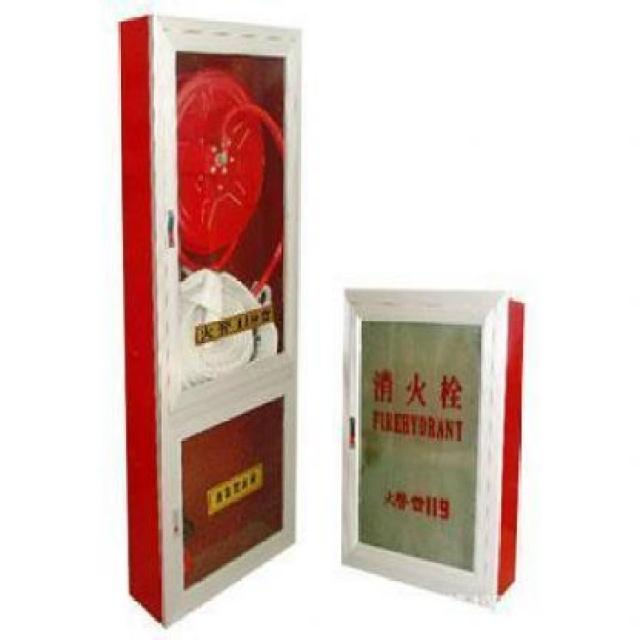firehydrant: (114, 9, 304, 633), (336, 283, 528, 614)
